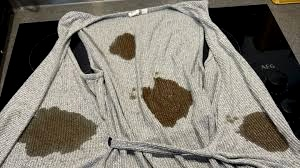coffee: (26, 111, 81, 146), (146, 82, 186, 118), (249, 119, 273, 142), (113, 36, 135, 58)
